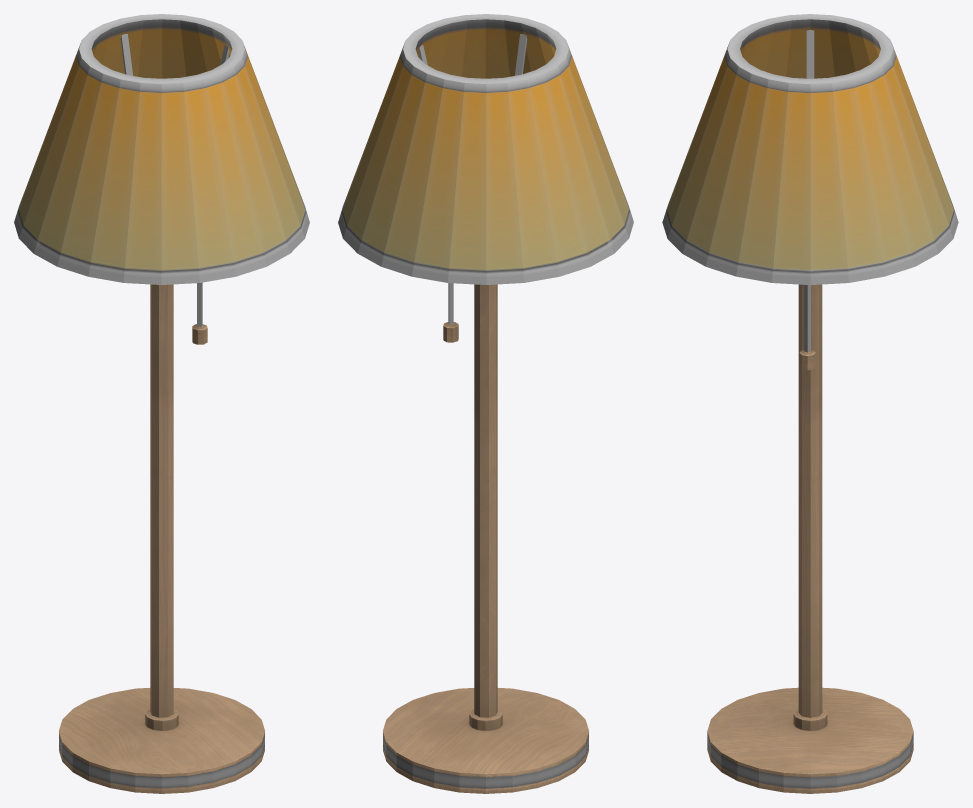
The model's file is P_FloorLamp_004_S1_M01.obj.
The picture shows the model from 3 angles, left to right: view 1: azimuth 30°, elevation 25°; view 2: azimuth 150°, elevation 25°; view 3: azimuth 270°, elevation 25°; orthographic projection.
Size of the model in its own units: 0.7239 by 1.89 by 0.7239.
2 materials, 2 textured.
